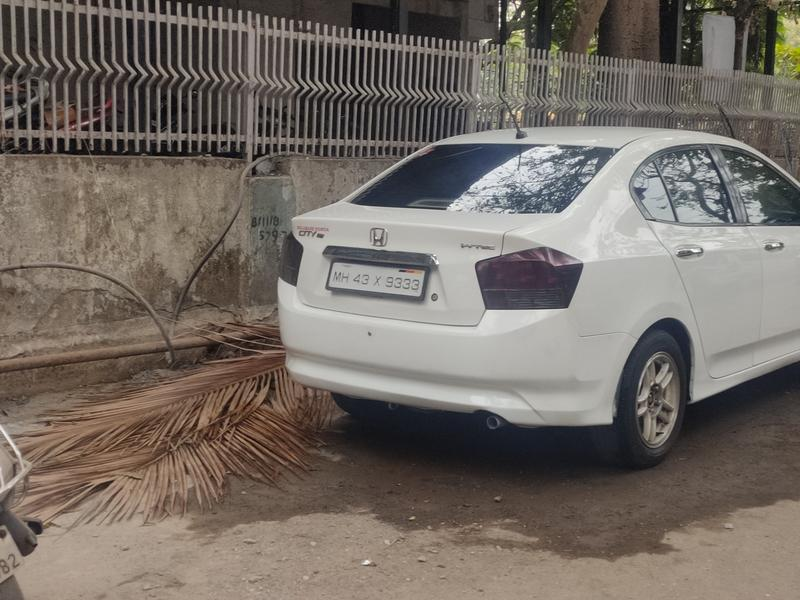license_plate: (325, 254, 433, 306)
